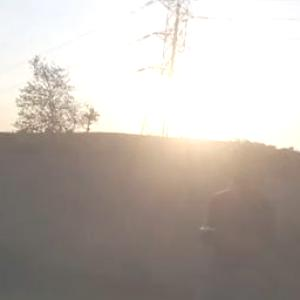follow: (196, 139, 280, 299)
